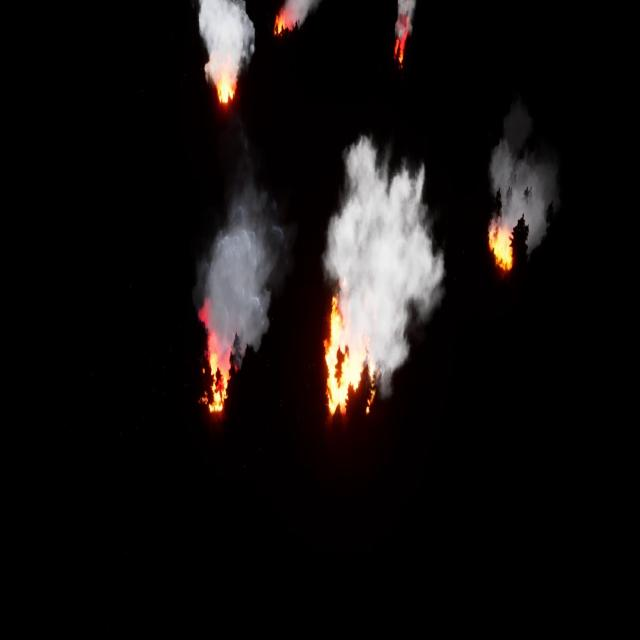fire: (322, 291, 373, 418), (191, 306, 230, 412), (484, 222, 514, 274), (216, 76, 241, 109), (393, 27, 410, 61), (272, 0, 284, 42)
smoke: (326, 145, 446, 401), (202, 183, 284, 363), (493, 126, 551, 232), (198, 0, 256, 99), (396, 0, 415, 37), (290, 0, 307, 27)
